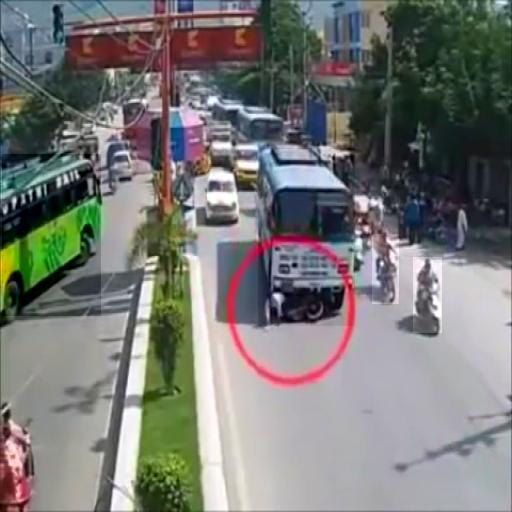小汽车: (2, 154, 101, 316), (208, 169, 242, 228)
小汽车撞自行车: (258, 148, 355, 326)
自行车: (413, 257, 442, 333), (372, 234, 399, 304)
